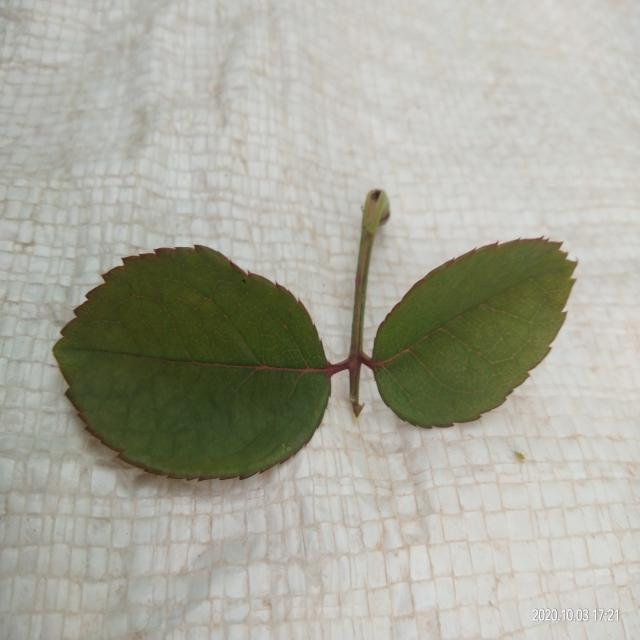rose: (54, 190, 576, 478)
